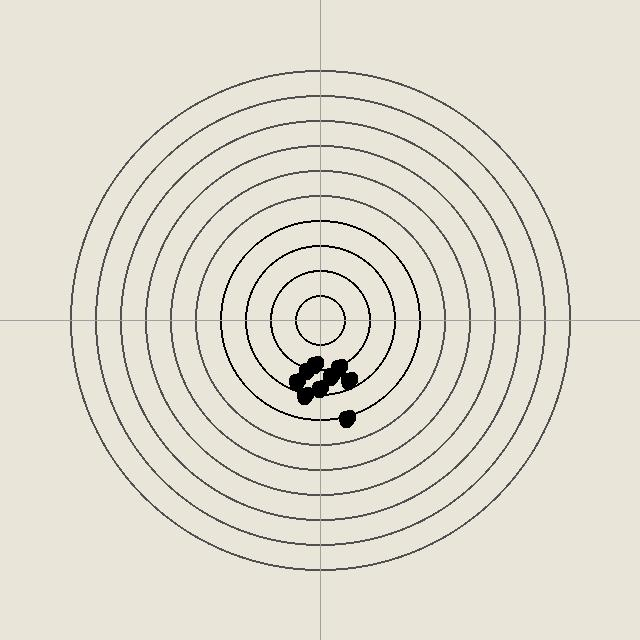good_group: (338, 370, 358, 390), (286, 371, 306, 391), (304, 354, 324, 374), (309, 378, 329, 398), (328, 357, 348, 377), (294, 385, 314, 405), (336, 408, 356, 428), (296, 360, 316, 380), (320, 366, 340, 386)
